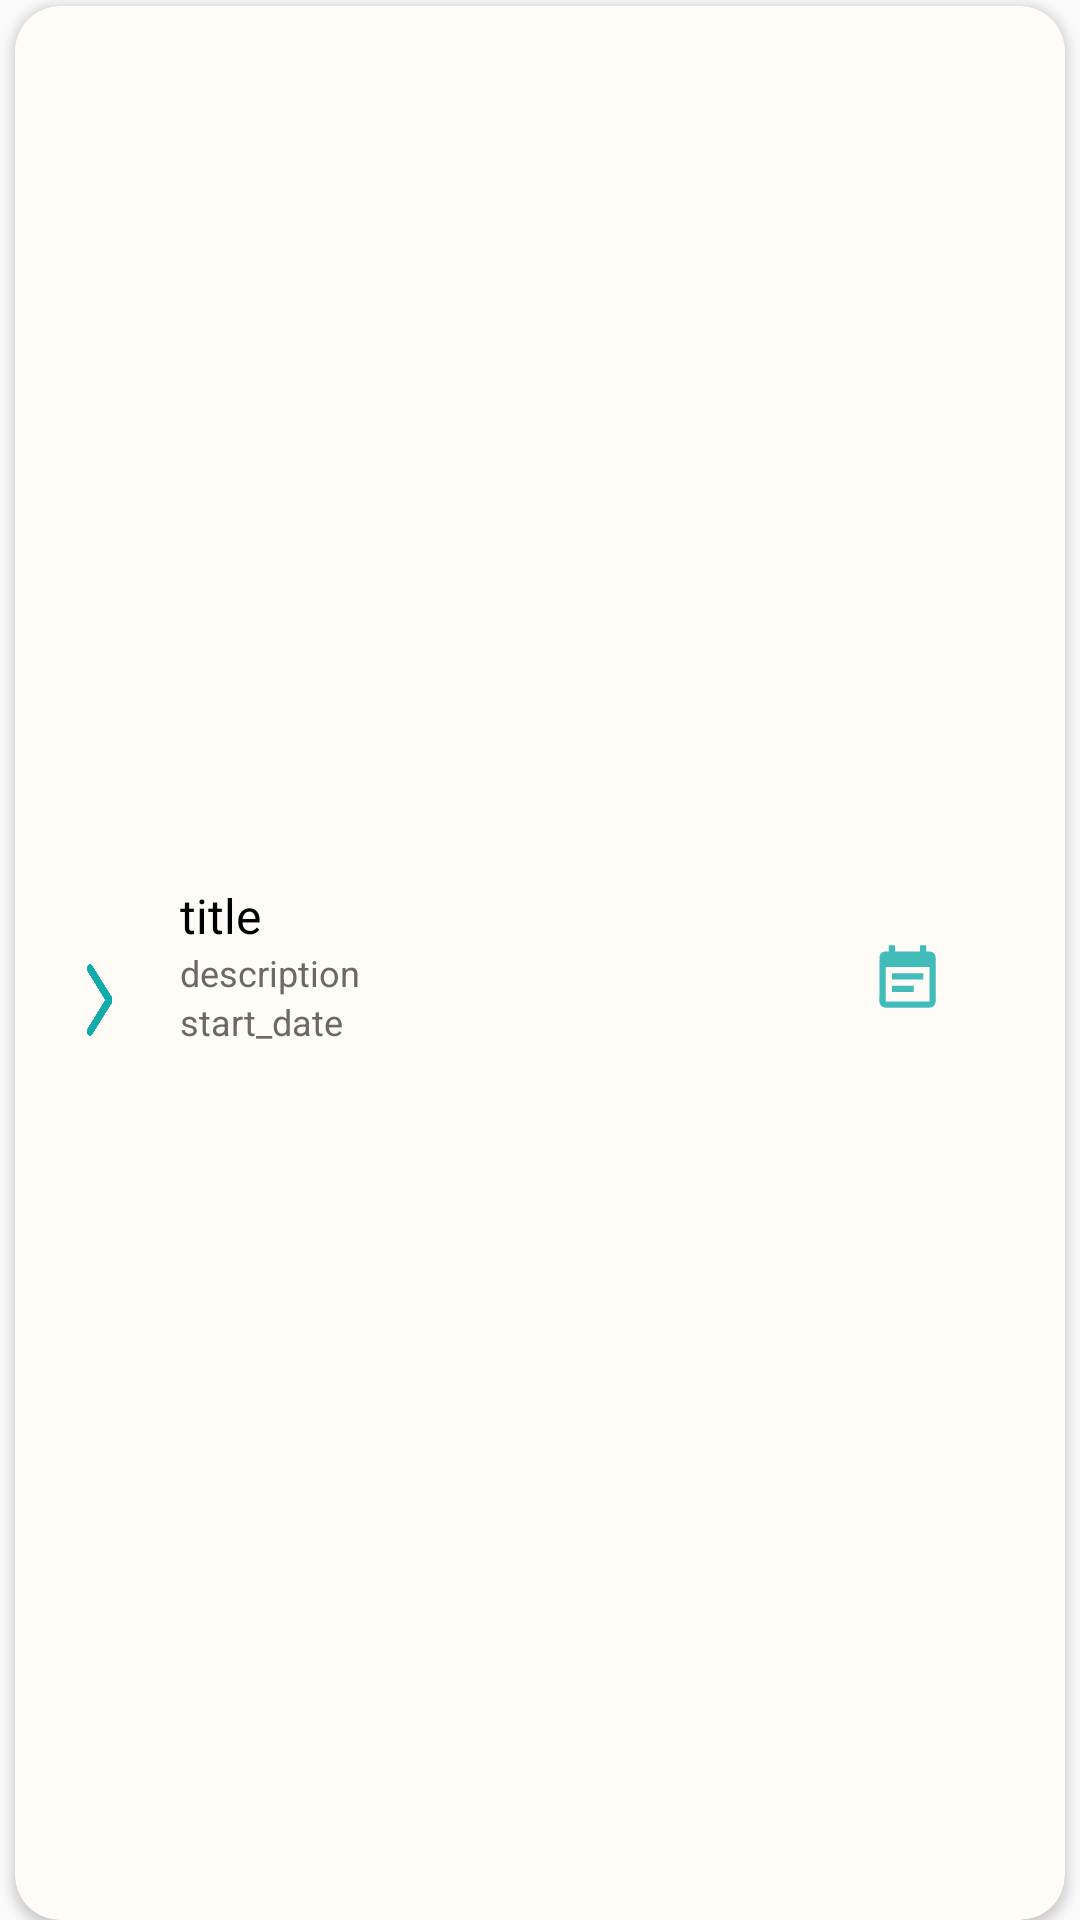

Point at icon controls on the screen. Image size 1080w x 1920h, points as [x,y].
note: [907,976]
right: [100,1000]
